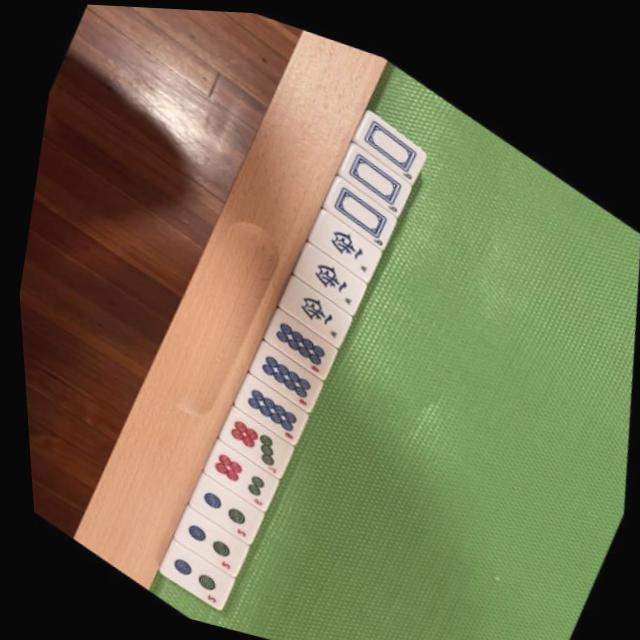hdw: (319, 164, 412, 243), (351, 98, 444, 176), (336, 131, 427, 209)
hww: (302, 196, 396, 277), (286, 229, 379, 309), (270, 264, 363, 343)
sd2: (173, 460, 267, 541), (158, 495, 249, 573), (143, 531, 232, 606)
sd6: (189, 427, 283, 508)
sd7: (204, 394, 298, 475)
sd8: (221, 360, 313, 441), (238, 329, 331, 408), (253, 296, 346, 374)
